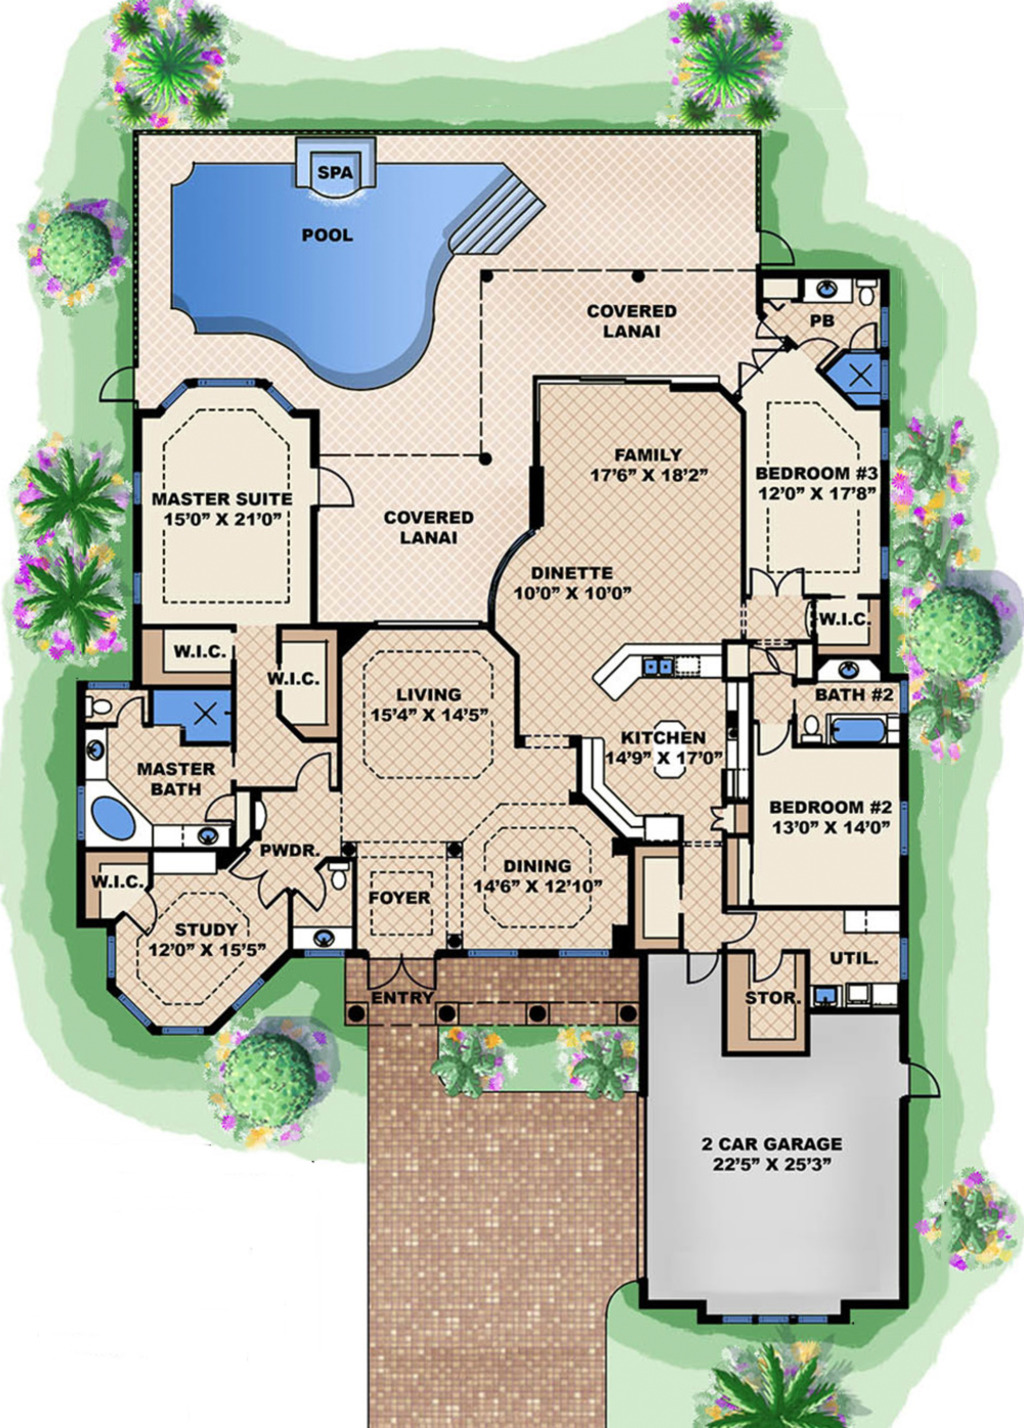door: (358, 937, 441, 997), (234, 850, 284, 910), (738, 563, 815, 600), (287, 748, 340, 795), (314, 466, 361, 515), (98, 366, 143, 413), (107, 689, 153, 736), (733, 345, 779, 386), (723, 898, 762, 942), (123, 887, 158, 933), (679, 945, 717, 983), (293, 877, 331, 912)
kitchen_bar: (584, 633, 723, 700)
tub: (823, 709, 891, 747)
